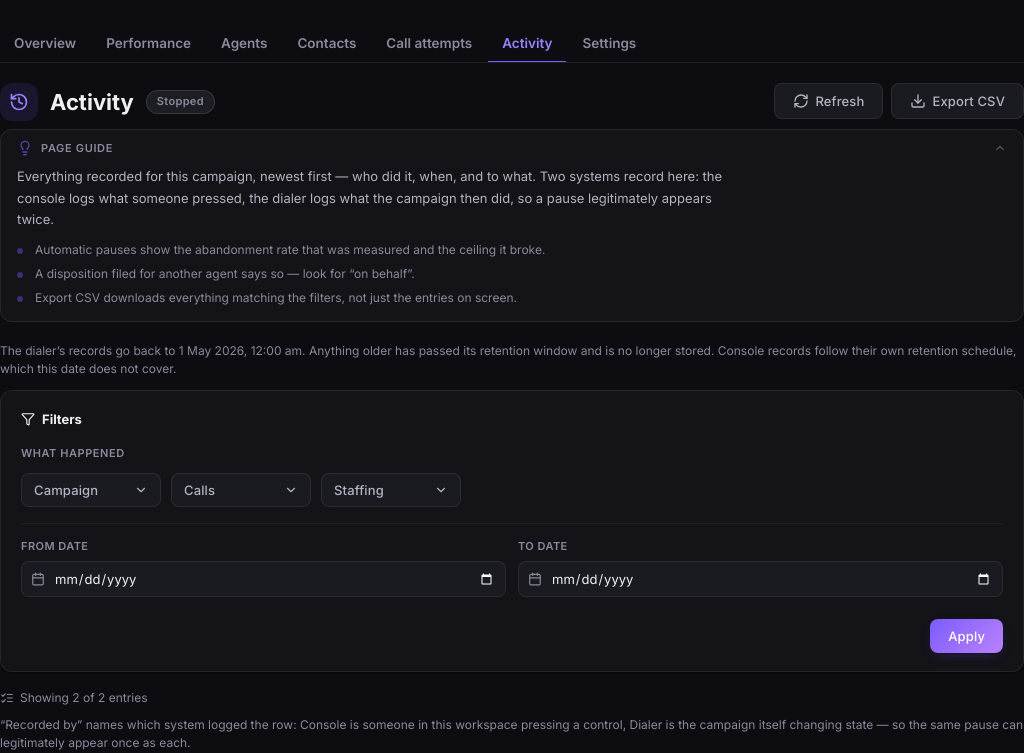
Test: races › ignores a slow response that a newer query has already superseded
The width and height of the screenshot is (1024, 753).
Click the button "Calls" at [241, 490], box [171, 473, 311, 507]
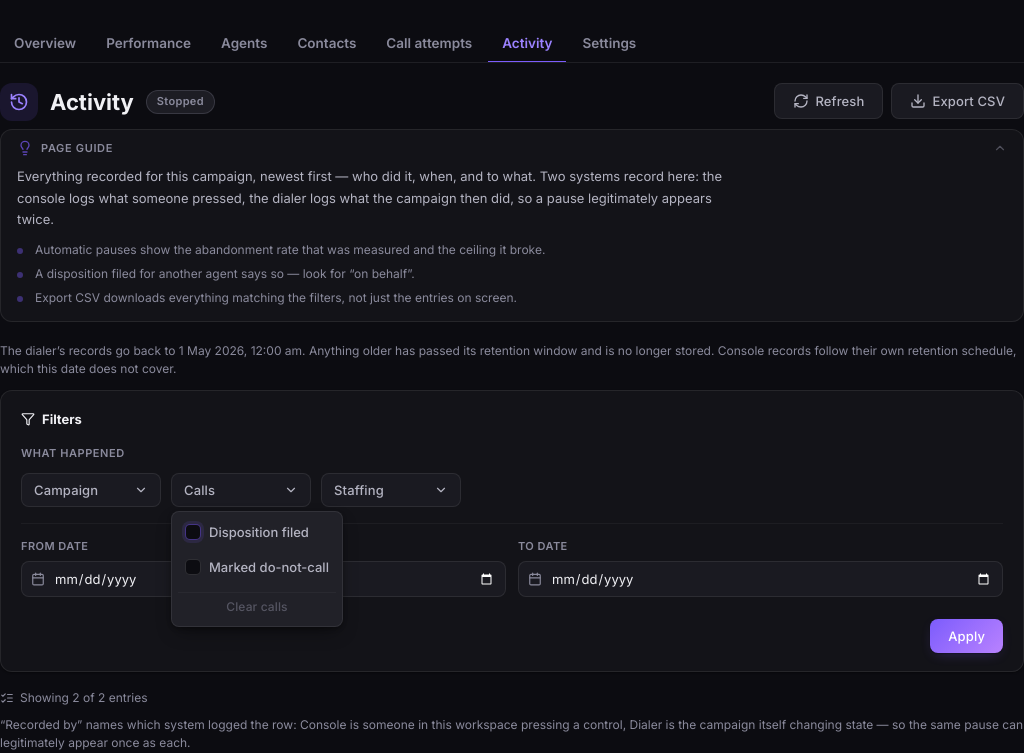
Click the checkbox labelled "Disposition filed" at [193, 532], box [185, 524, 201, 540]
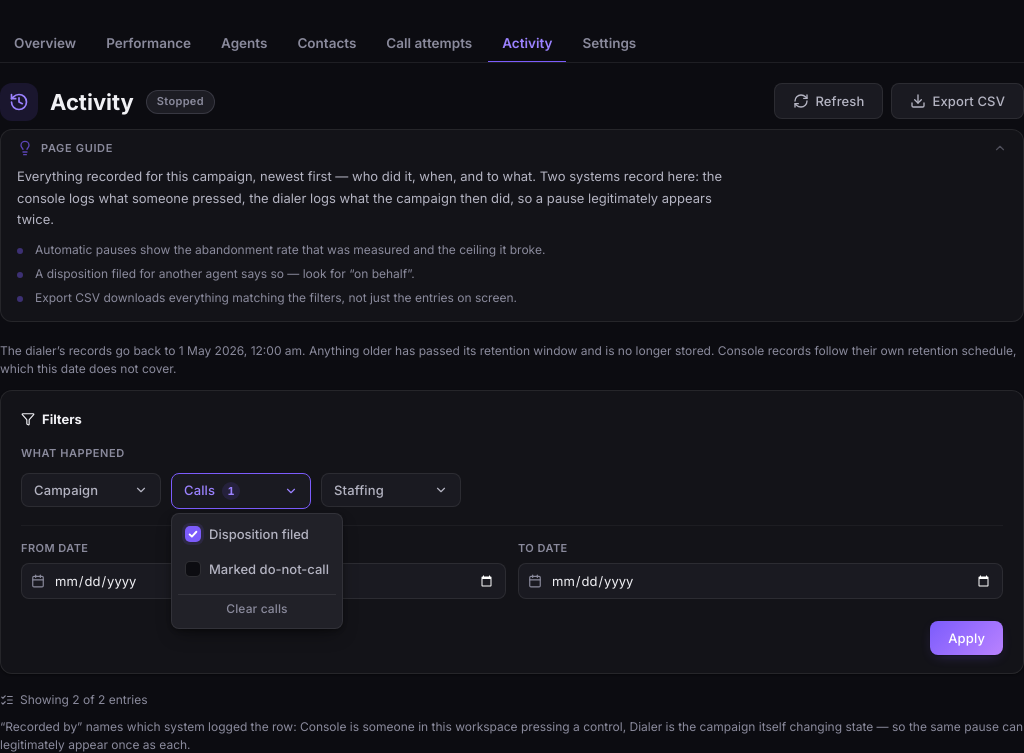
Click the button "Apply" at [967, 638], box [930, 622, 1003, 656]
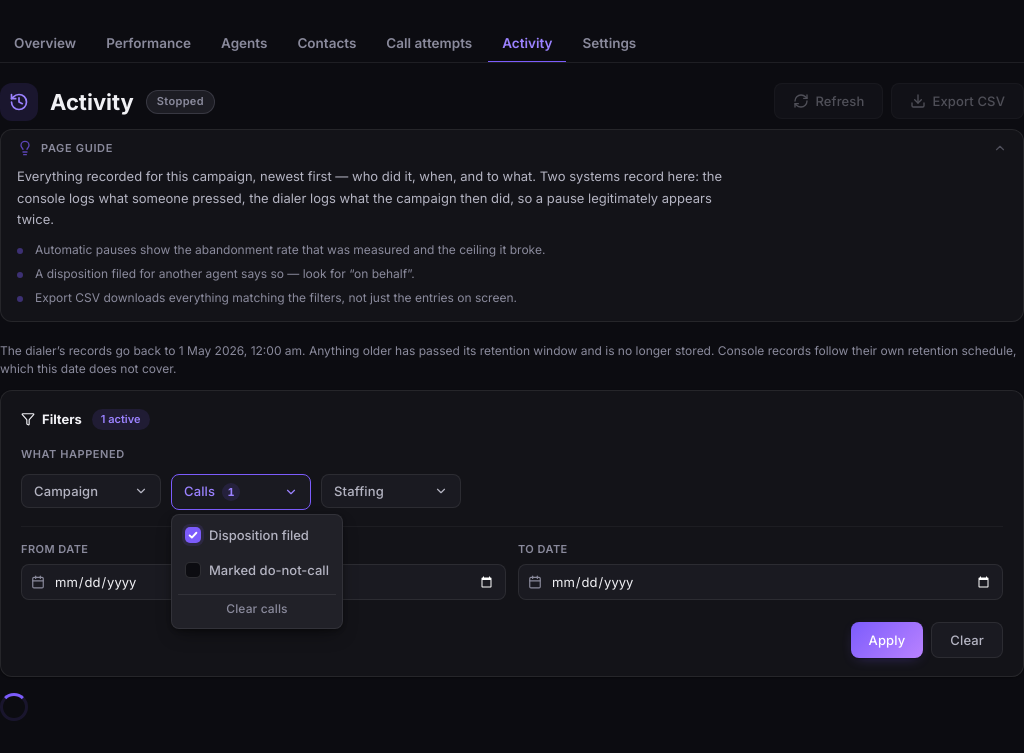
Click the checkbox labelled "Marked do-not-call" at [193, 570], box [185, 562, 201, 578]
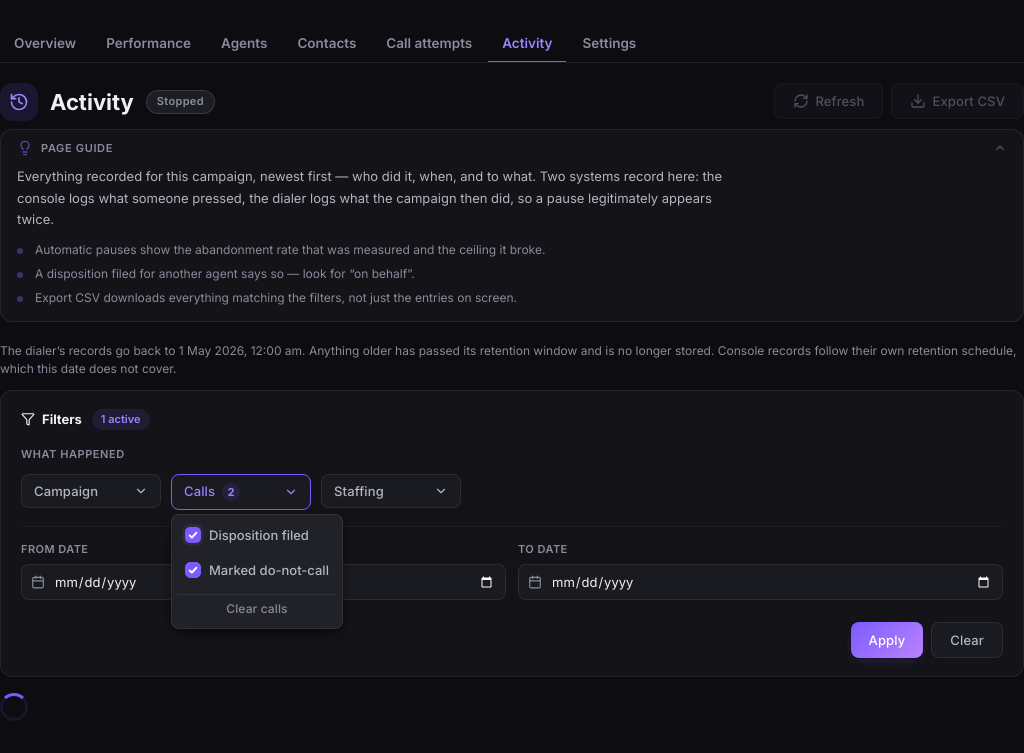
Click the button "Apply" at [887, 640], box [851, 622, 923, 658]
(page scrolled)
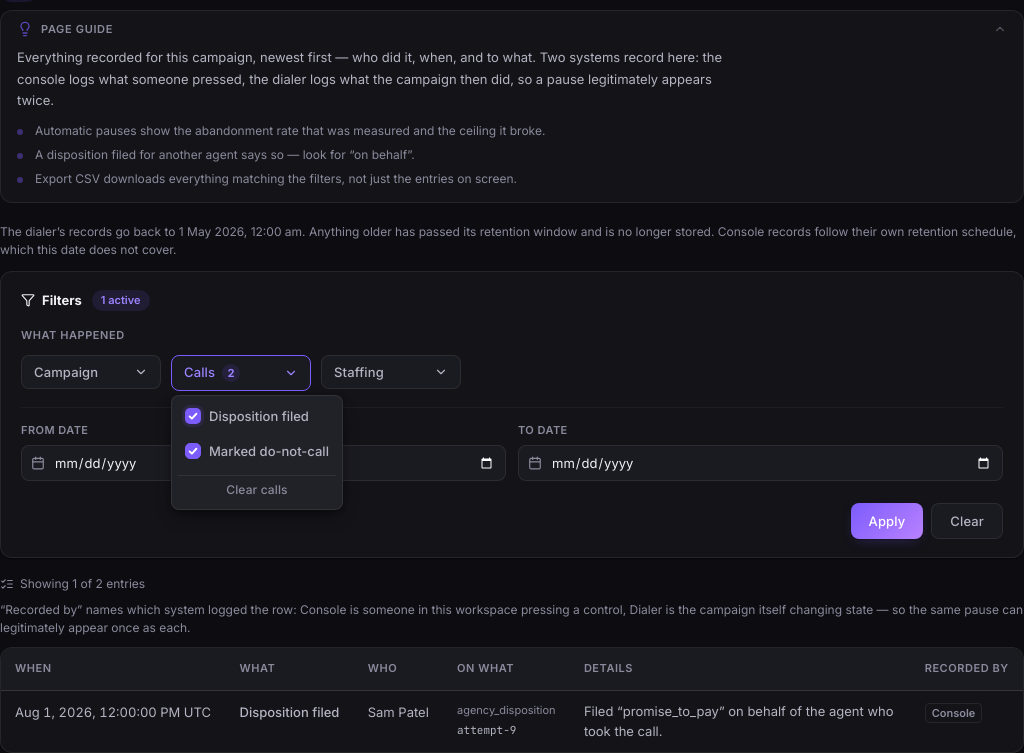
Now the row with test id "activity-row-master:fresh" is shown, box [1, 691, 1023, 752]
